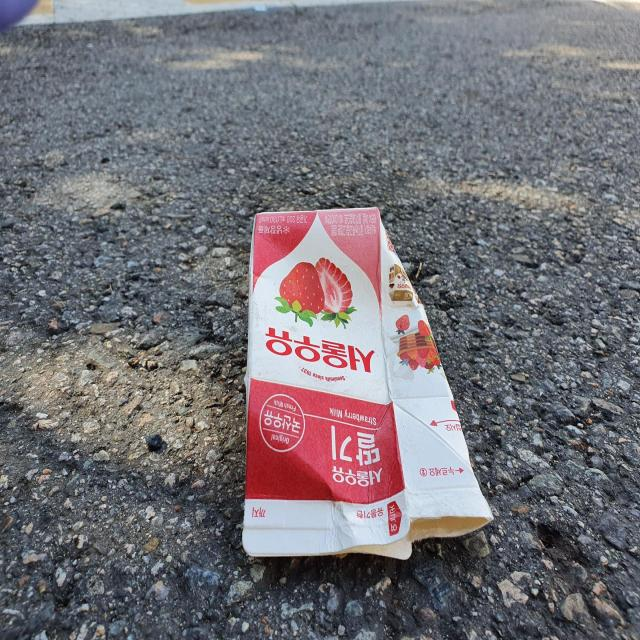paperpack: (242, 208, 494, 560)
